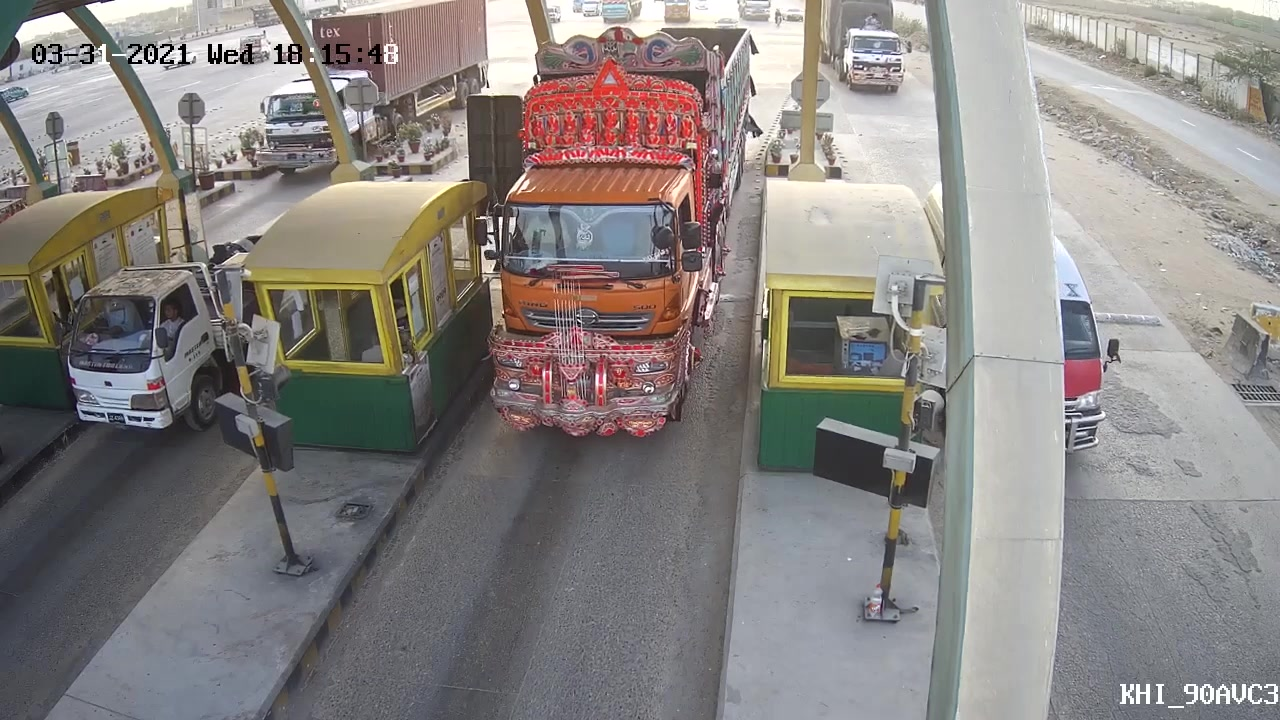F6: (478, 18, 757, 438)
